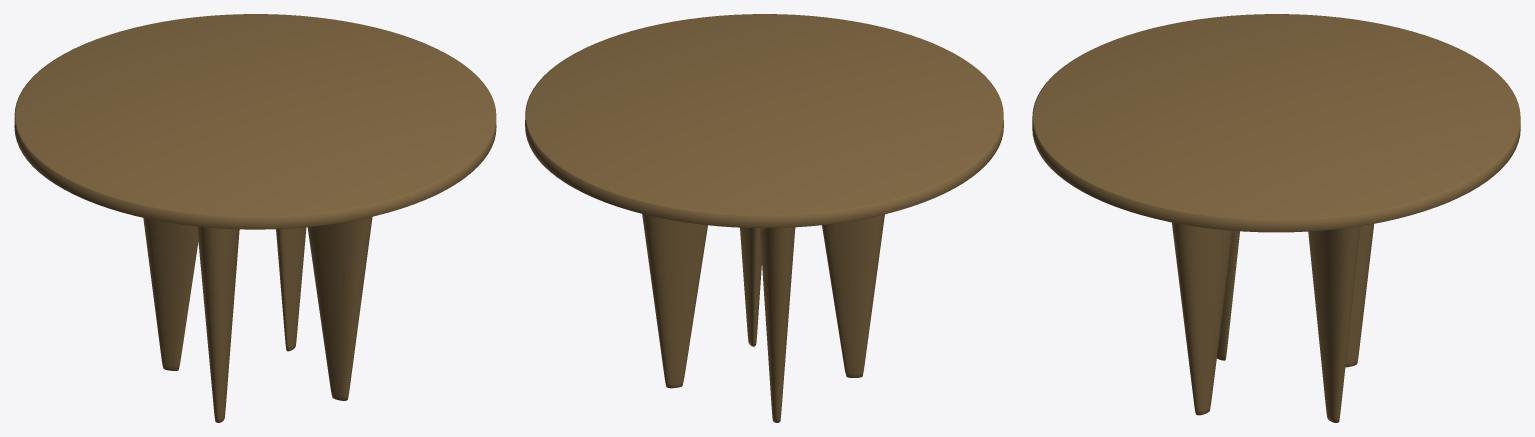
Rendered from TableWhole.fbx.
3 views of the same model, side by side, from view 1: azimuth 30°, elevation 25°; view 2: azimuth 150°, elevation 25°; view 3: azimuth 270°, elevation 25° (orthographic). The views are drawn at different scales.
Parts seen in each view (by area): view 1: Table; view 2: Table; view 3: Table.
Part boxes in pixels (left/top/right/bottom): Table: left=14, top=14, right=496, bottom=422; Table: left=525, top=14, right=1003, bottom=422; Table: left=1032, top=14, right=1520, bottom=422.
Size of the model in its own units: 95.49 by 58.75 by 95.49.
